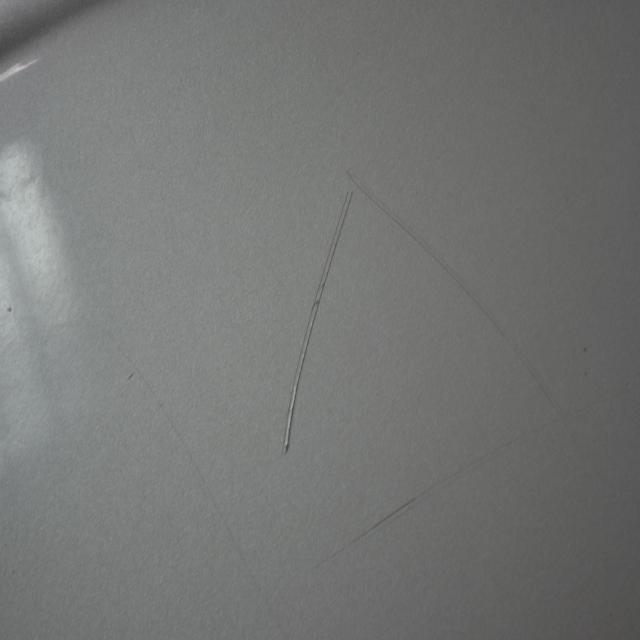dirt: (6, 304, 16, 317), (580, 343, 588, 356), (583, 369, 591, 380)
scratch: (336, 156, 585, 456), (303, 381, 638, 584), (110, 330, 267, 601), (276, 183, 358, 460)
